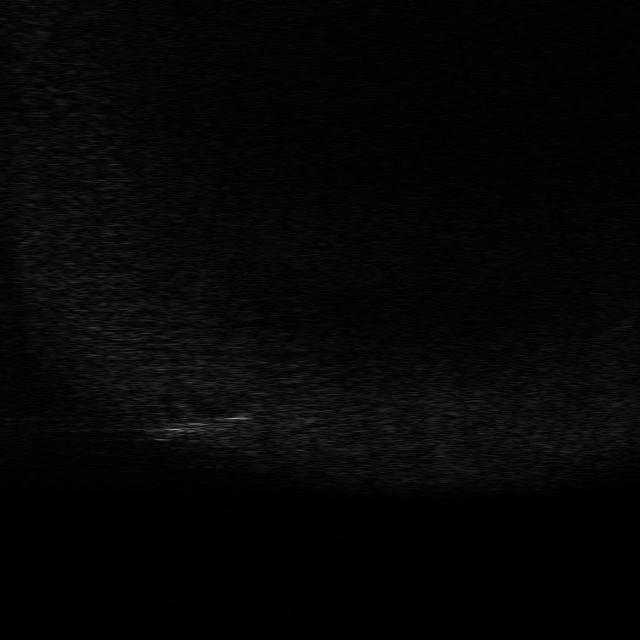plane: (151, 402, 249, 441)
